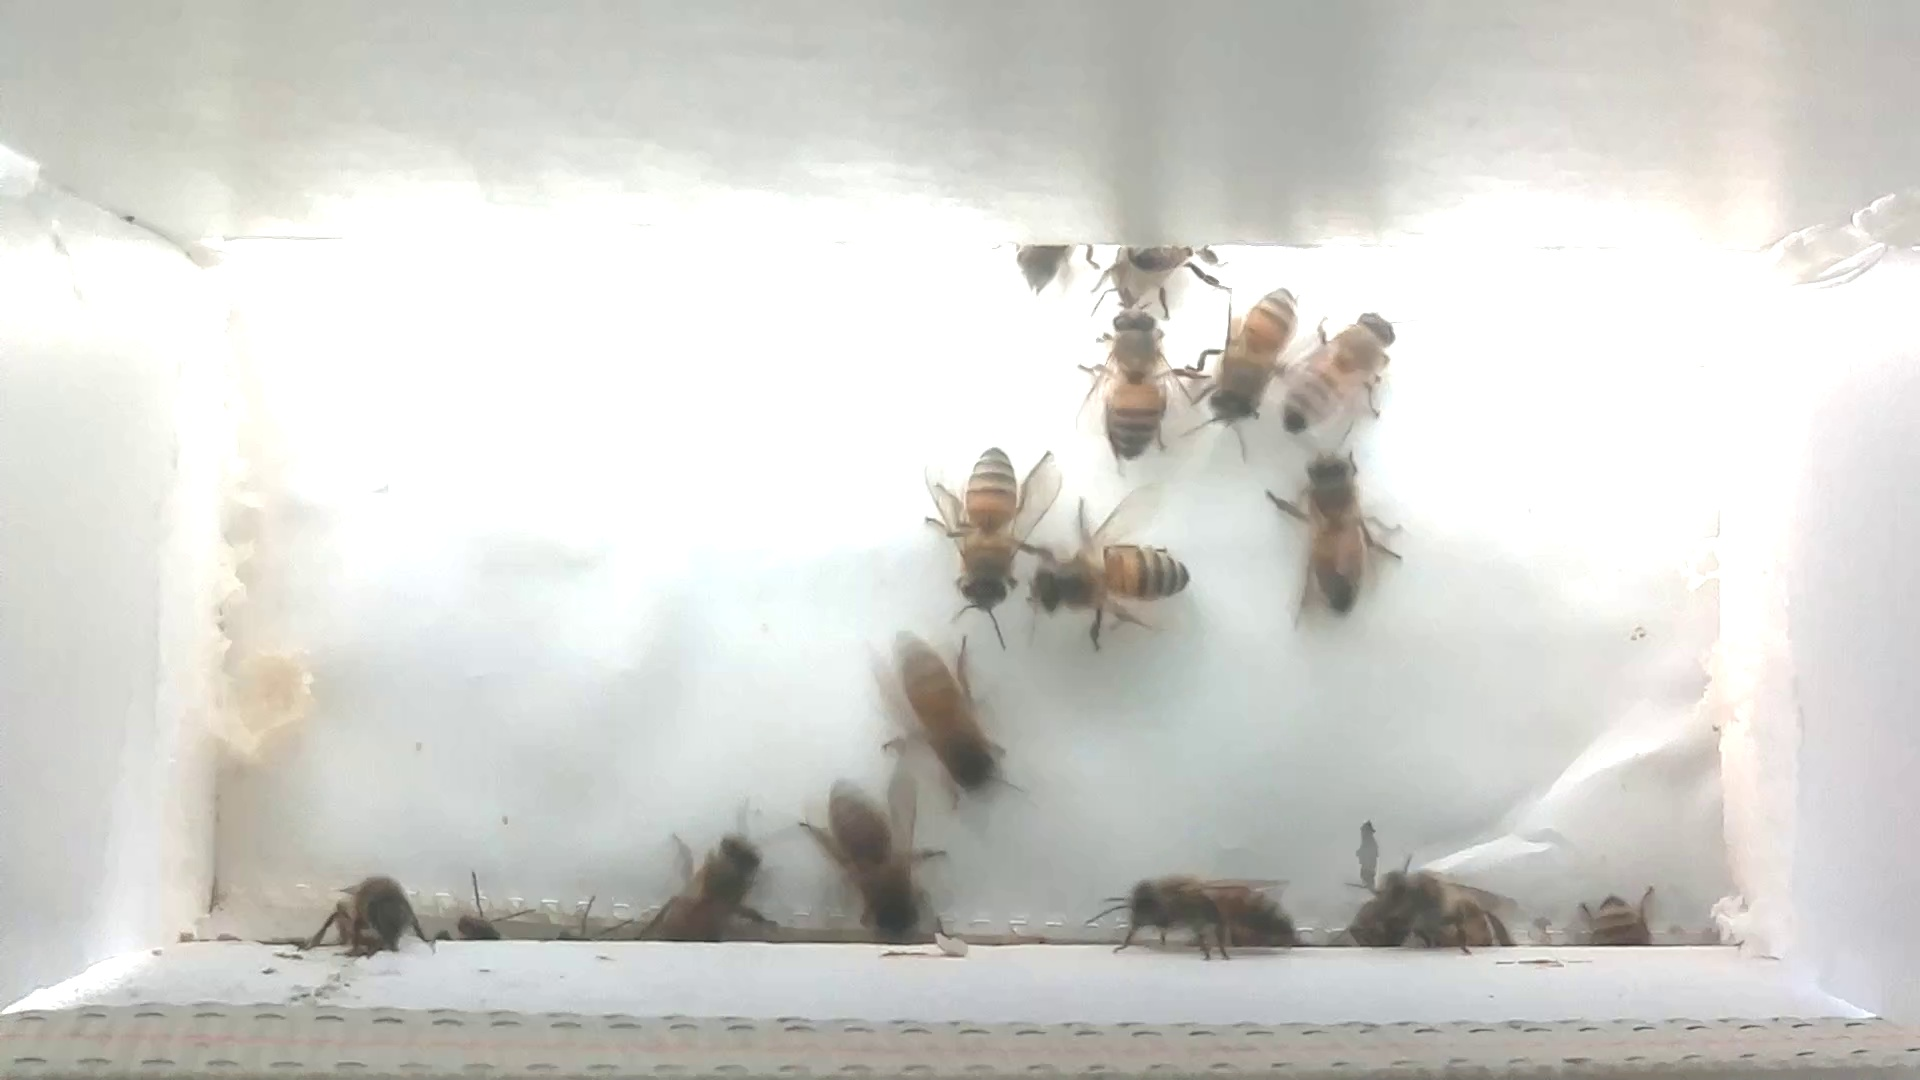bee: (789, 761, 967, 956), (1266, 443, 1435, 629), (862, 634, 1034, 804), (914, 430, 1044, 620), (1021, 510, 1215, 632), (1091, 865, 1305, 969), (1338, 847, 1520, 969), (1275, 298, 1411, 456), (640, 824, 789, 960), (1085, 295, 1193, 473), (1195, 266, 1296, 454), (309, 855, 440, 969), (1096, 229, 1216, 319), (1572, 876, 1671, 952), (1005, 229, 1096, 309)
